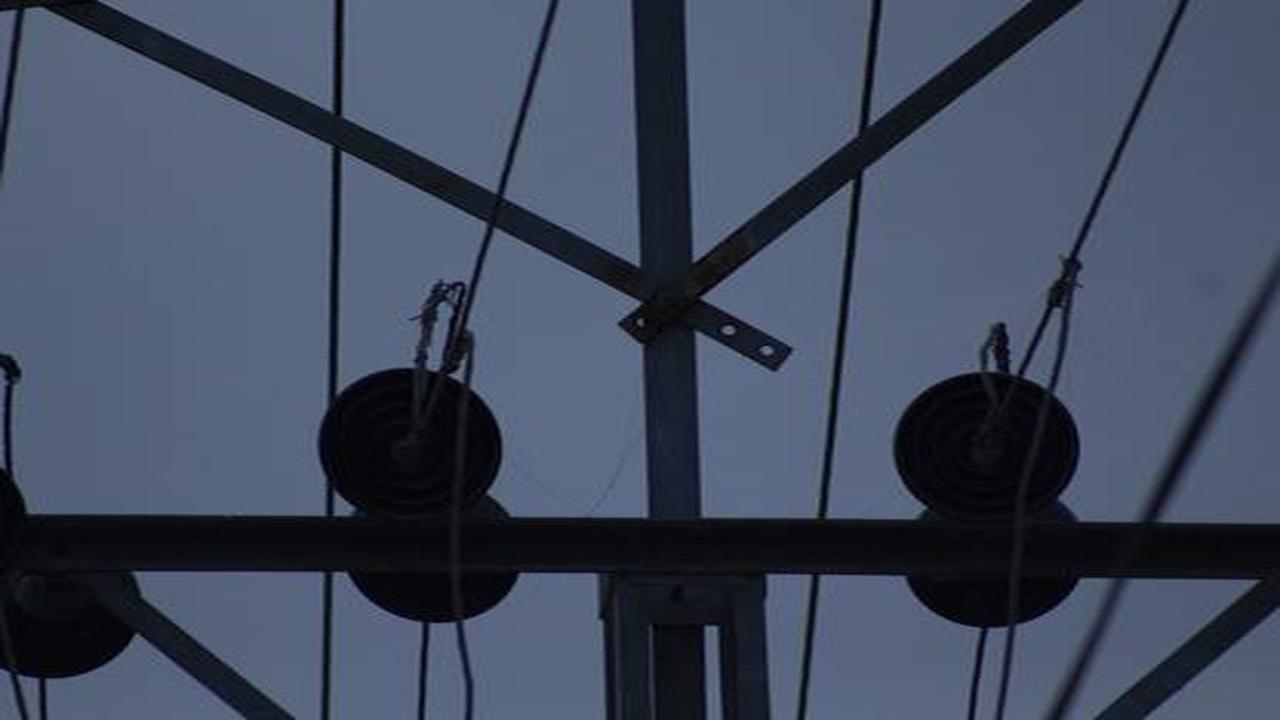insulator_disc: (315, 362, 510, 517), (893, 370, 1081, 514)
